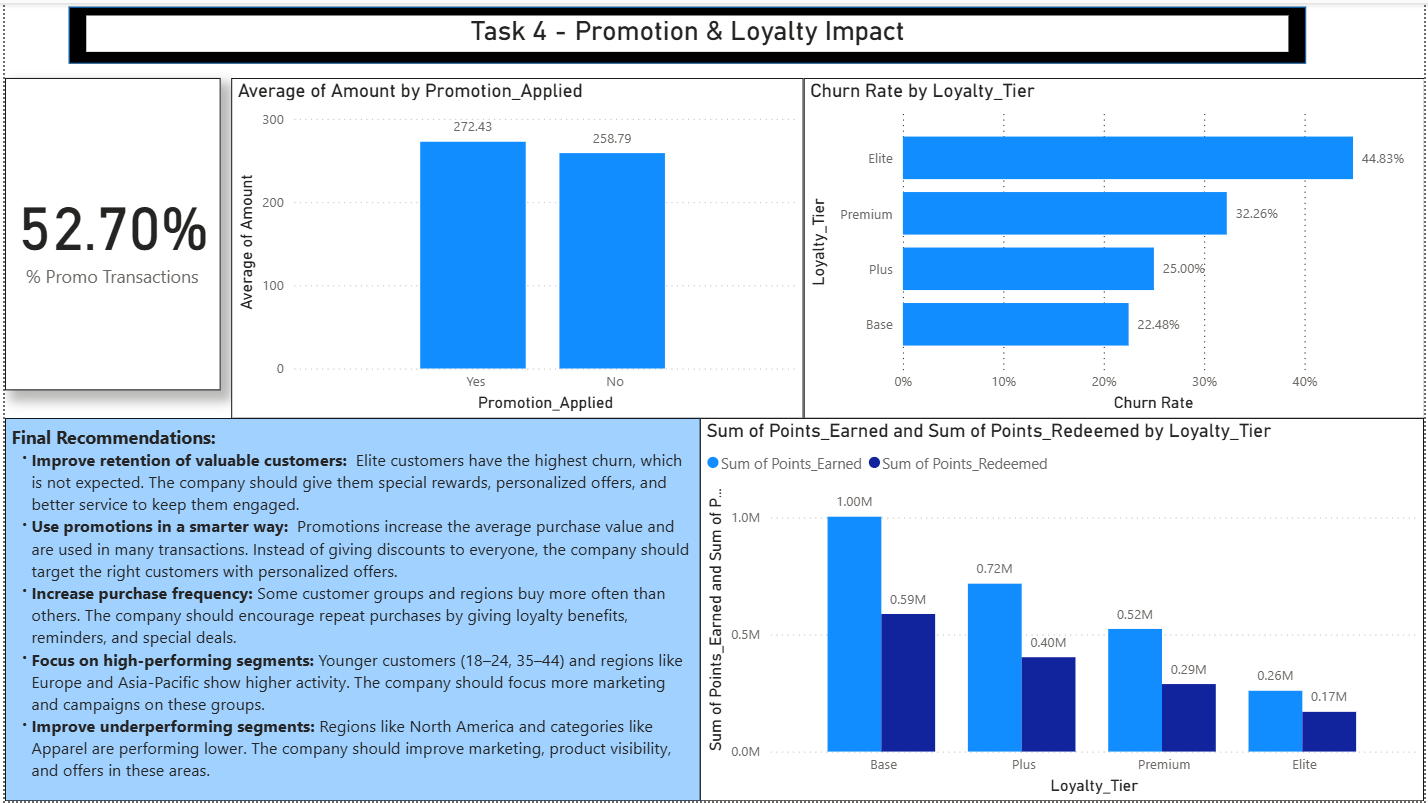

What the dashboard file says about the page in this screenshot:
{"tool":"powerbi","page":{"name":"Task 4","canvas":[1280,720],"ordinal":2},"visuals":[{"type":"card","fields":{"Values":["Adidas customer transactional - Customer_Transactions.% Promo Transactions"]},"box":[0,67.1,194.3,281.4],"z":0},{"type":"clusteredColumnChart","fields":{"Category":["Adidas customer transactional - Customer_Transactions.Promotion_Applied"],"Y":["Avg(Adidas customer transactional - Customer_Transactions.Amount)"]},"box":[204.3,67.1,515.7,307.1],"z":1000},{"type":"clusteredBarChart","fields":{"Category":["Loyalty adidas metadata - Loyalty_Program.Loyalty_Tier"],"Y":["customer churned - Churn_Labelled_Customers.Churn Rate"]},"box":[720,67.1,560,307.1],"z":2000},{"type":"clusteredColumnChart","fields":{"Category":["Loyalty adidas metadata - Loyalty_Program.Loyalty_Tier"],"Y":["Sum(Loyalty adidas metadata - Loyalty_Program.Points_Earned)","Sum(Loyalty adidas metadata - Loyalty_Program.Points_Redeemed)"]},"box":[627.1,374.3,652.9,345.7],"z":3000},{"type":"textbox","box":[0,374.3,627.1,345.7],"z":4000},{"type":"shape","box":[57.1,2.9,1115.7,51.4],"z":4001},{"type":"textbox","title":"Task 4 - Promotion & Loyalty Impact","box":[72.9,11.4,1084.3,32.9],"z":4002}]}

Visuals, with their boxes in screenshot pixels (x1, y1, x2, y2), scaled from the page's 1280x720 canvas onto the 1428x803 screenshot:
card - Adidas customer transactional - Customer_Transactions.% Promo Transactions: 0, 75, 217, 389
clusteredColumnChart - Adidas customer transactional - Customer_Transactions.Promotion_Applied x Avg(Adidas customer transactional - Customer_Transactions.Amount): 228, 75, 803, 417
clusteredBarChart - Loyalty adidas metadata - Loyalty_Program.Loyalty_Tier x customer churned - Churn_Labelled_Customers.Churn Rate: 803, 75, 1427, 417
clusteredColumnChart - Loyalty adidas metadata - Loyalty_Program.Loyalty_Tier x Sum(Loyalty adidas metadata - Loyalty_Program.Points_Earned): 700, 417, 1427, 802
textbox: 0, 417, 700, 802
shape: 64, 3, 1308, 61
"Task 4 - Promotion & Loyalty Impact" textbox: 81, 13, 1291, 49
